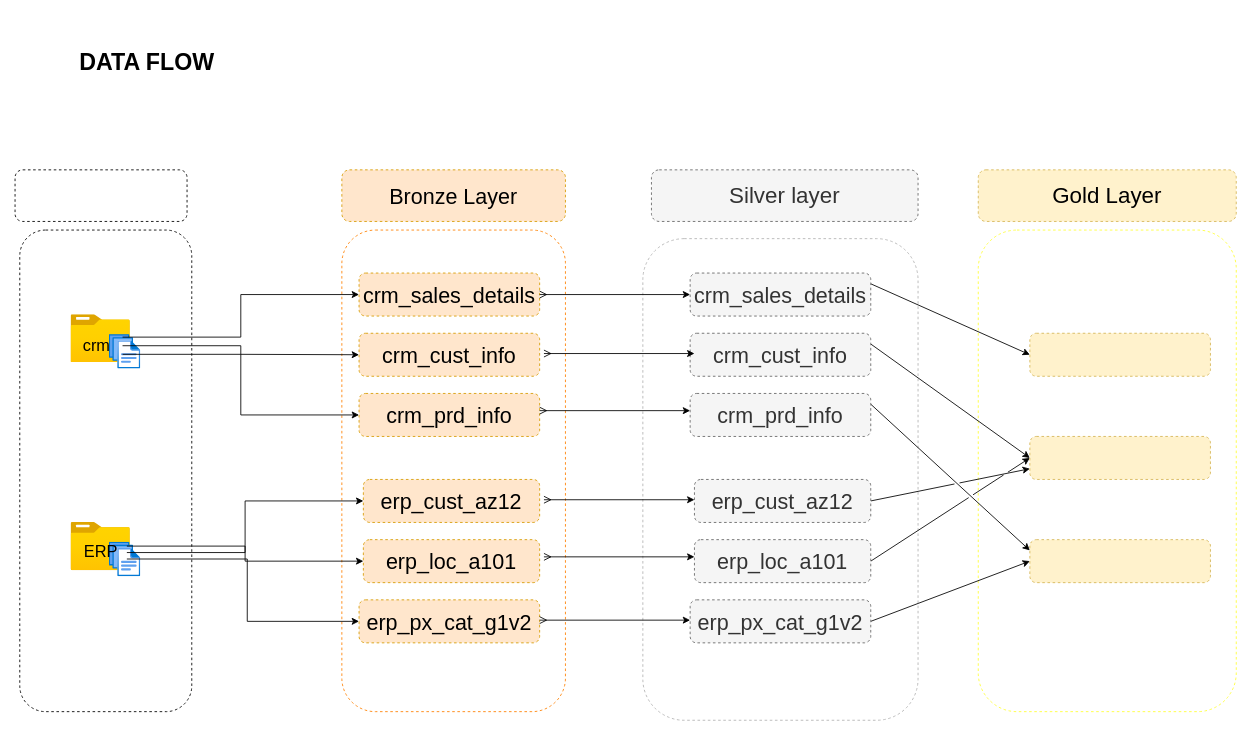
This 1251x735 diagram has some shape labels left out. Here are the shapes that lost their labels. From the top down, the box of each, then its label:
(14, 169, 187, 221): Sources
(1029, 332, 1210, 376): fact_sales
(1029, 436, 1210, 479): customer_dum
(1029, 539, 1210, 583): product_dim
